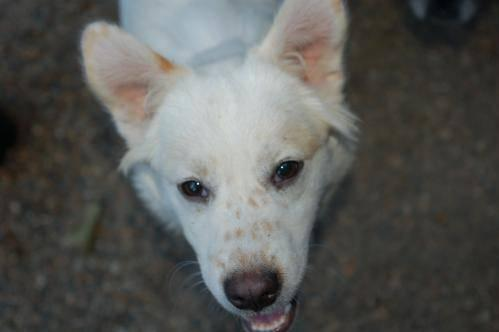dog: (81, 0, 356, 331)
